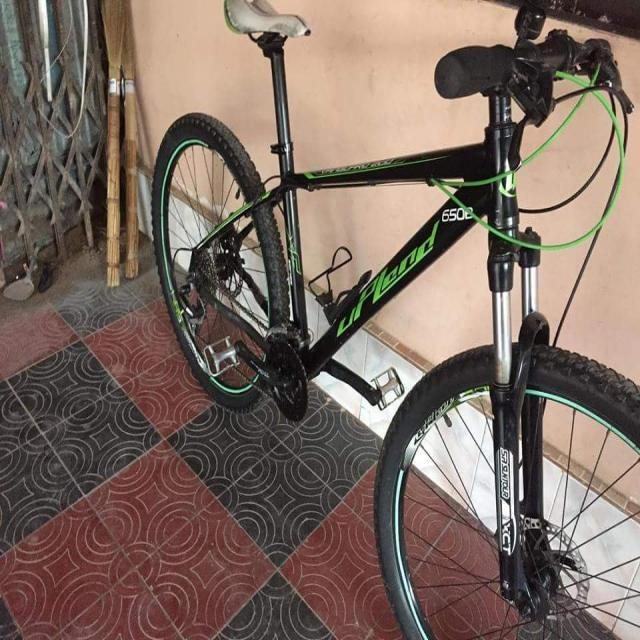Bicycle: (136, 1, 640, 640)
